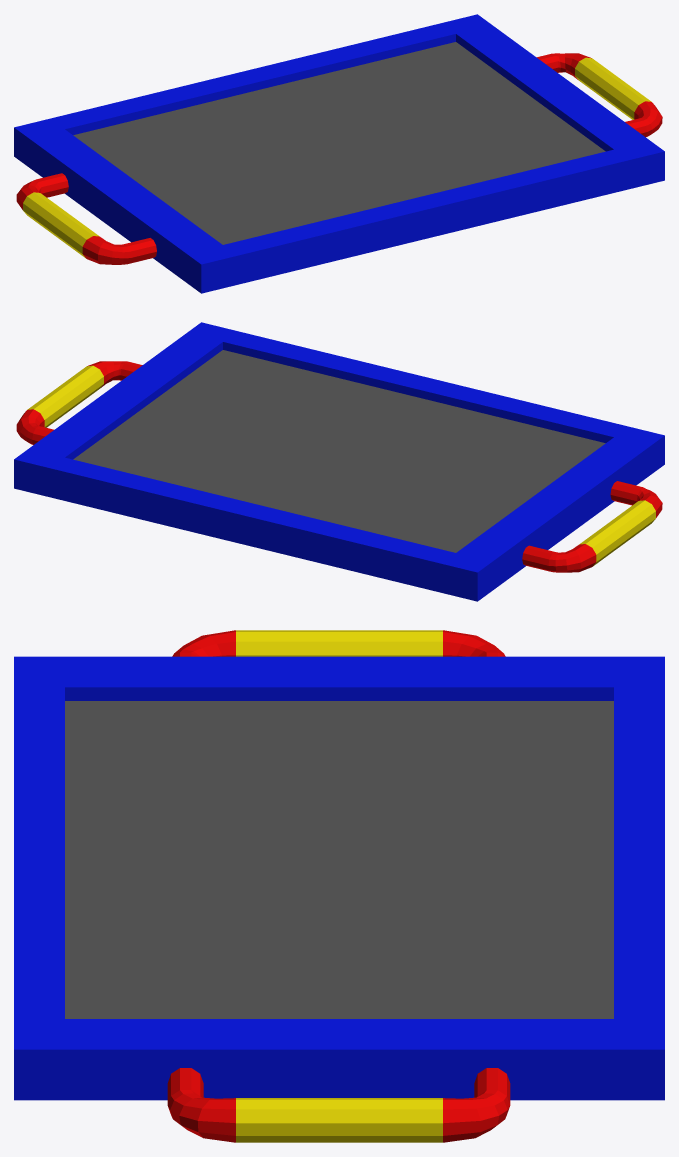
File: Pad.fbx
3 renders of one model, top to bottom at view 1: azimuth 30°, elevation 25°; view 2: azimuth 150°, elevation 25°; view 3: azimuth 270°, elevation 25°, orthographic. The views are drawn at different scales.
Parts seen in each view (by area): view 1: Cube, Cylinder; view 2: Cube, Cylinder; view 3: Cube, Cylinder.
Part boxes in pixels (x1=…): Cube: x1=14, y1=14, x2=664, y2=293; Cylinder: x1=16, y1=53, x2=662, y2=264; Cube: x1=14, y1=322, x2=664, y2=601; Cylinder: x1=16, y1=361, x2=662, y2=572; Cube: x1=14, y1=656, x2=664, y2=1100; Cylinder: x1=167, y1=630, x2=510, y2=1142.
Bounding box in the file's own units: 17.64 × 0.9138 × 9.98.
